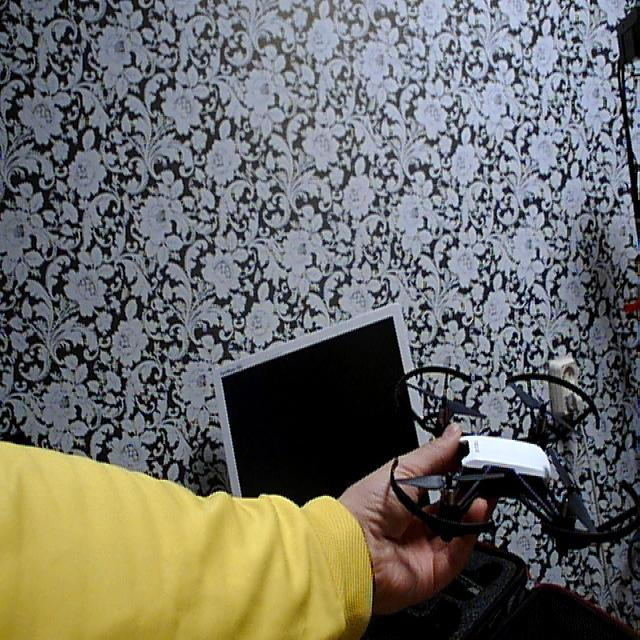drone: (375, 355, 634, 589)
